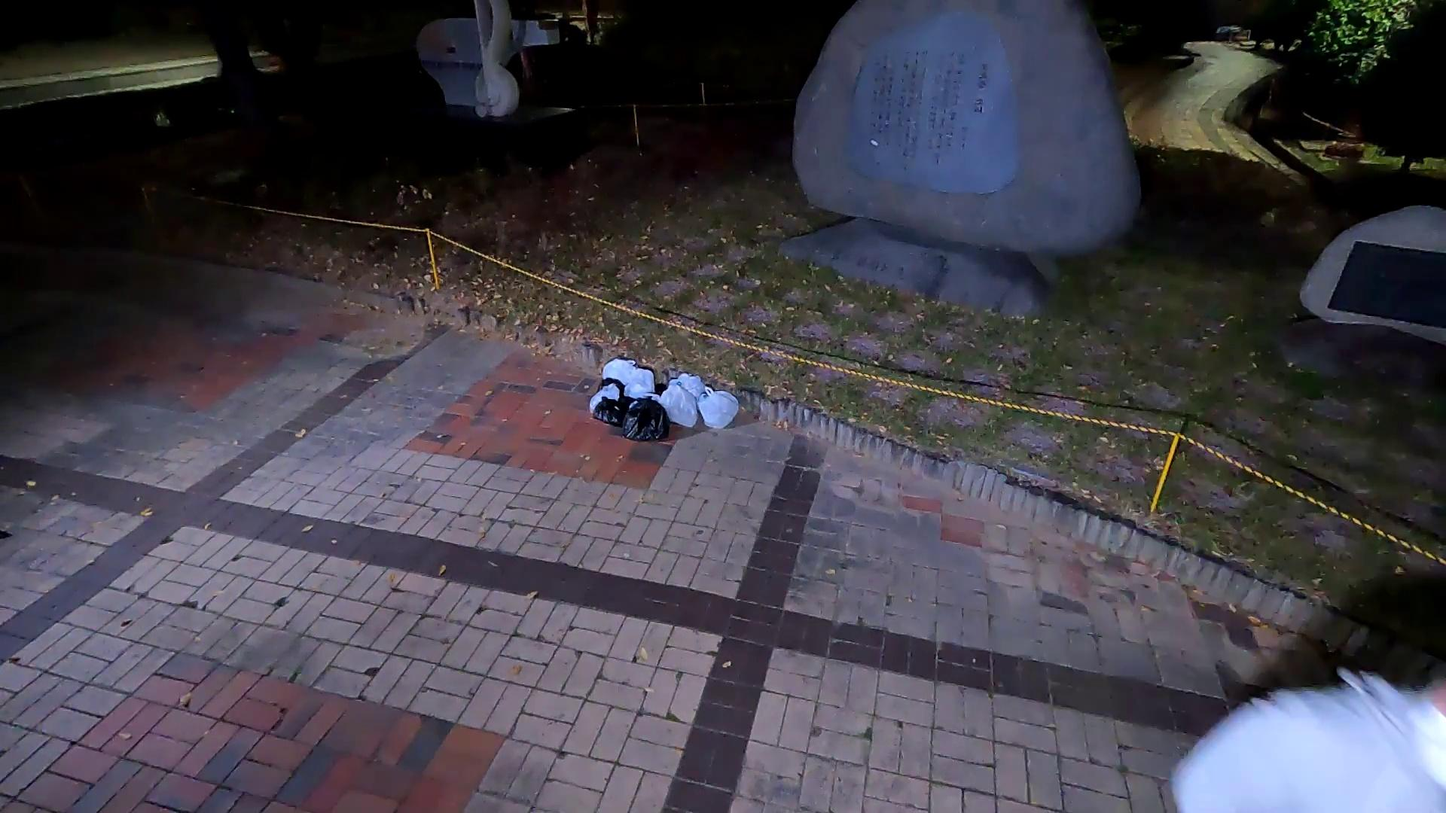trash: (653, 371, 703, 429), (597, 356, 656, 405), (622, 388, 671, 445), (695, 388, 744, 431), (583, 374, 624, 418), (678, 365, 707, 410), (589, 390, 622, 425)
